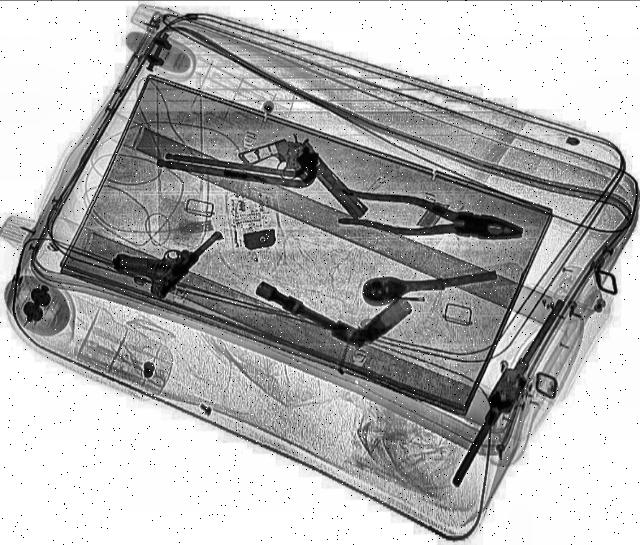Gun: (233, 124, 369, 244), (105, 203, 227, 301)
Pliers: (334, 186, 526, 254)
